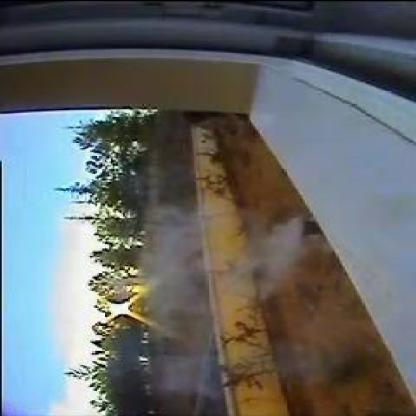-: (241, 215, 300, 295)
